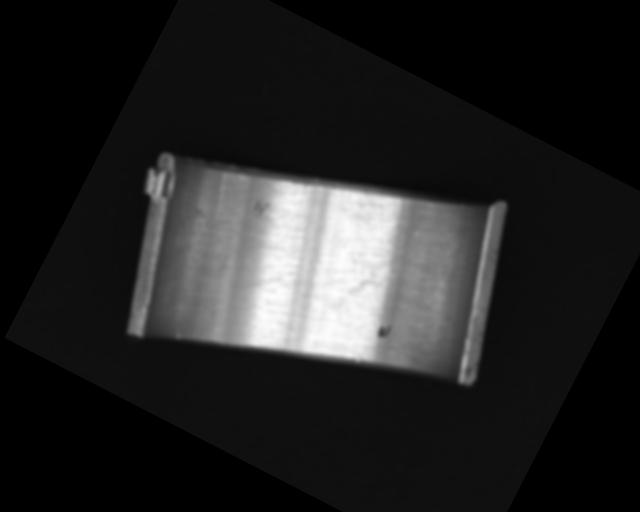blot: (339, 251, 395, 310), (374, 320, 393, 342)
bruise: (250, 195, 272, 219), (352, 354, 362, 364)
nick: (237, 250, 297, 307), (170, 326, 184, 340)
